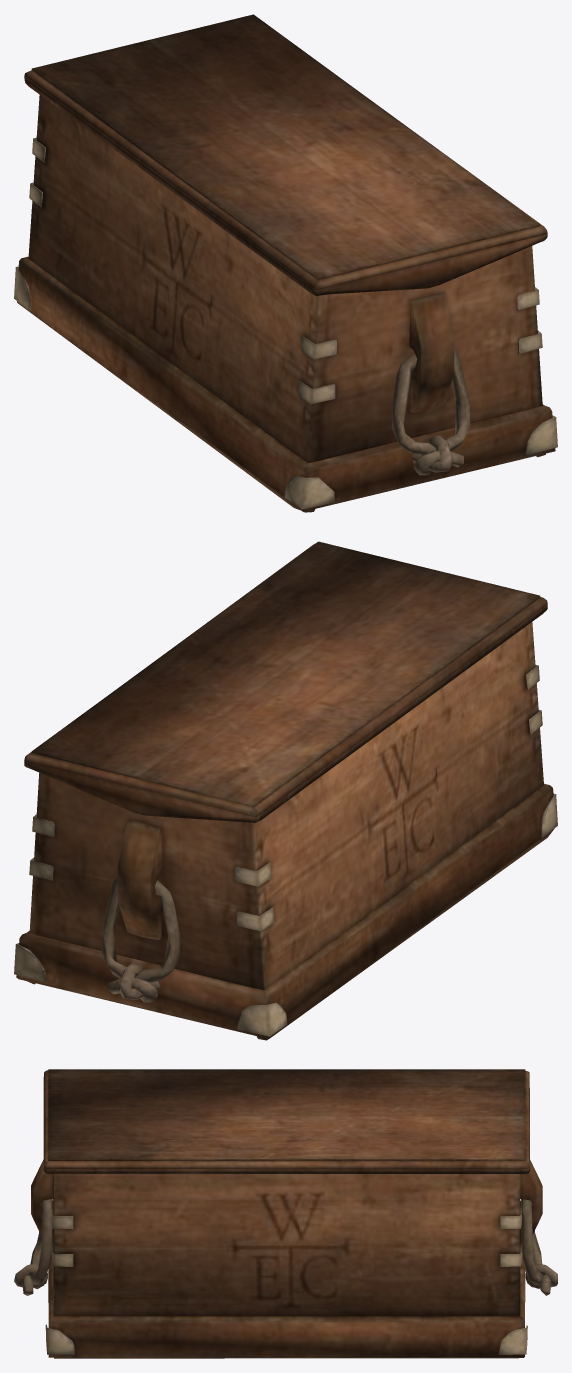
The model's file is wooden_crate_02.glb.
3 renders of one model, top to bottom at view 1: azimuth 30°, elevation 25°; view 2: azimuth 150°, elevation 25°; view 3: azimuth 270°, elevation 25°, orthographic. The views are drawn at different scales.
Visible parts, largest first — view 1: wooden_crate_02_crate, wooden_crate_02_lid; view 2: wooden_crate_02_crate, wooden_crate_02_lid; view 3: wooden_crate_02_crate, wooden_crate_02_lid.
Boxes of the visible parts, x1=… form: wooden_crate_02_crate: x1=14, y1=95, x2=557, y2=512; wooden_crate_02_lid: x1=24, y1=14, x2=547, y2=296; wooden_crate_02_crate: x1=14, y1=622, x2=557, y2=1040; wooden_crate_02_lid: x1=24, y1=541, x2=547, y2=822; wooden_crate_02_crate: x1=14, y1=1159, x2=557, y2=1358; wooden_crate_02_lid: x1=43, y1=1069, x2=529, y2=1174.
Size of the model in its own units: 0.5291 by 0.464 by 1.16.
1 material, 1 textured.
